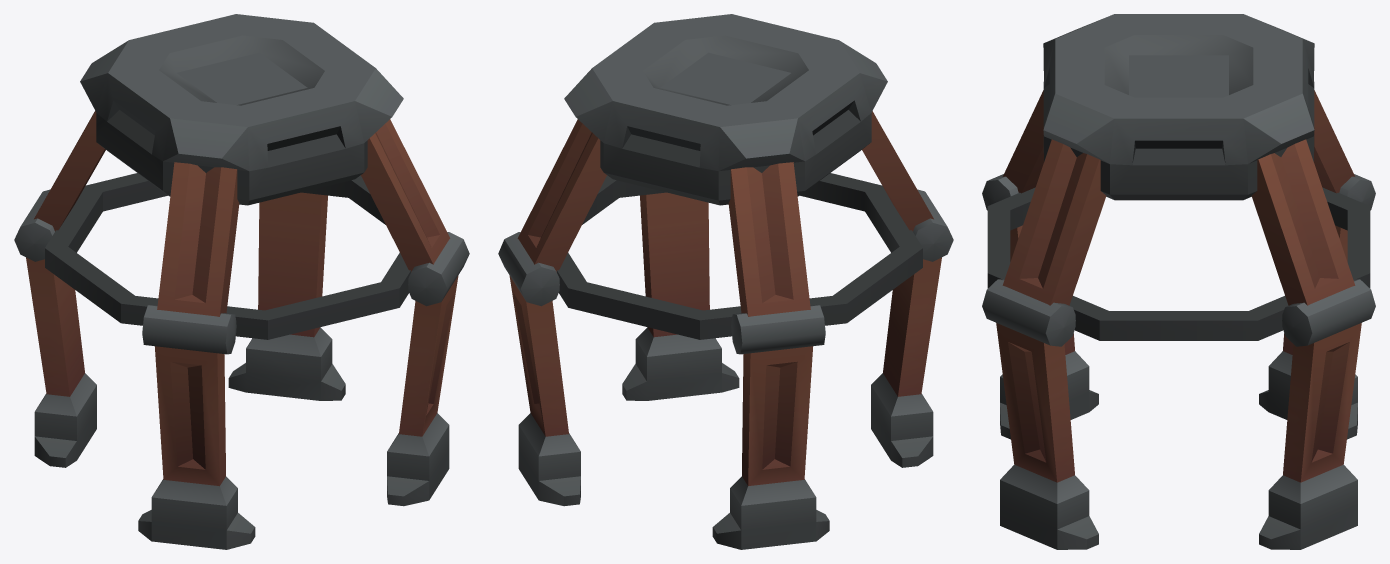
The model's file is scaffold-D51yLDHI.glb.
3 views of the same model, side by side, from view 1: azimuth 30°, elevation 25°; view 2: azimuth 150°, elevation 25°; view 3: azimuth 270°, elevation 25° (orthographic). The views are drawn at different scales.
Parts seen in each view (by area): view 1: structure_tall; view 2: structure_tall; view 3: structure_tall.
Boxes of the visible parts, x1,y1,x2,y2 form: structure_tall: (14,14,469,549); structure_tall: (498,14,953,549); structure_tall: (982,14,1375,549).
Bounding box in the file's own units: 1.75 × 2 × 1.75.
Materials: 1 (1 with a texture image).
